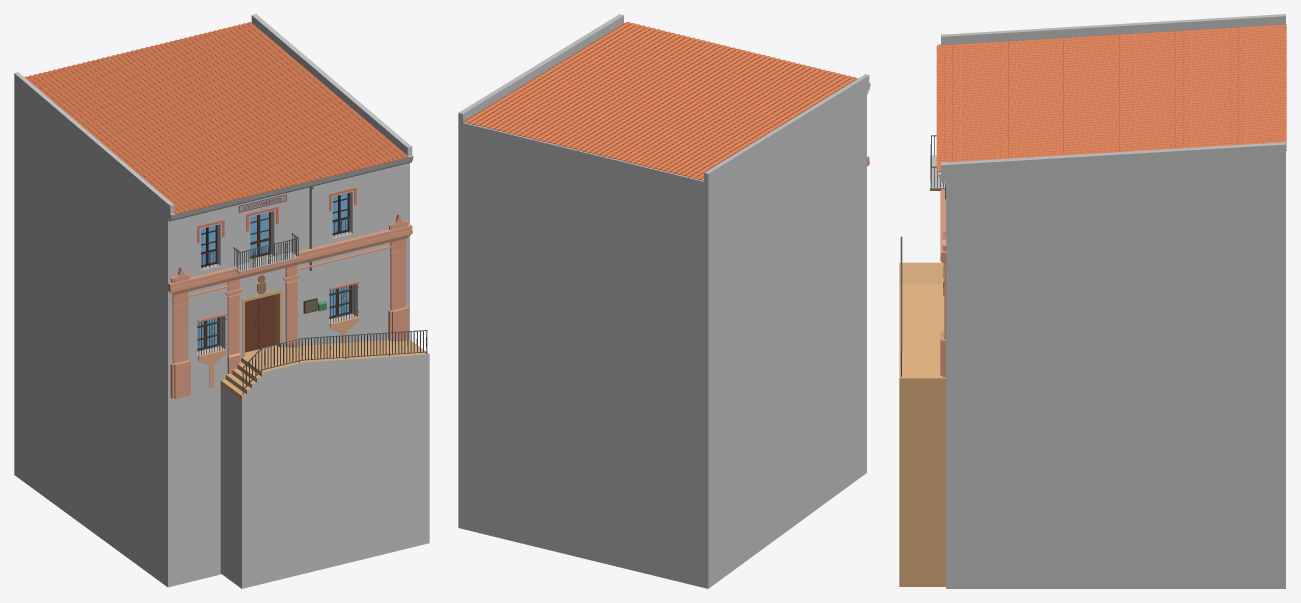
The model's file is 1_Ayuntamiento_Benarraba_Daniel_Bautista.fbx.
The picture shows the model from 3 angles, left to right: view 1: azimuth 30°, elevation 25°; view 2: azimuth 150°, elevation 25°; view 3: azimuth 270°, elevation 25°; orthographic projection. The views are drawn at different scales.
Visible parts, largest first — view 1: Fachada, Escaleras, Tejas, Columnas, Varandillas, Rejas.003, Adrono_Ventana_Inferior, Marco_Puerta, Terraza, Ventanas_Maderas_Superior, Tubería, Madera_Ventanas_Inferior (+1 smaller); view 2: Fachada, Tejas; view 3: Fachada, Tejas, Escaleras, Columnas.
Part boxes in pixels (x1=…): Fachada: x1=14, y1=14, x2=413, y2=587; Escaleras: x1=220, y1=339, x2=429, y2=588; Tejas: x1=24, y1=22, x2=409, y2=214; Columnas: x1=168, y1=213, x2=412, y2=398; Varandillas: x1=241, y1=330, x2=427, y2=394; Rejas.003: x1=197, y1=217, x2=358, y2=355; Adrono_Ventana_Inferior: x1=198, y1=317, x2=358, y2=387; Marco_Puerta: x1=242, y1=289, x2=282, y2=356; Terraza: x1=232, y1=252, x2=299, y2=274; Ventanas_Maderas_Superior: x1=201, y1=192, x2=349, y2=267; Tubería: x1=169, y1=161, x2=411, y2=270; Madera_Ventanas_Inferior: x1=197, y1=285, x2=351, y2=350; Fachada: x1=458, y1=14, x2=870, y2=588; Tejas: x1=463, y1=21, x2=857, y2=180; Fachada: x1=938, y1=14, x2=1285, y2=588; Tejas: x1=936, y1=24, x2=1286, y2=171; Escaleras: x1=899, y1=262, x2=945, y2=586; Columnas: x1=940, y1=189, x2=946, y2=377.
Bounding box in the file's own units: 1094 × 1733 × 1369.
